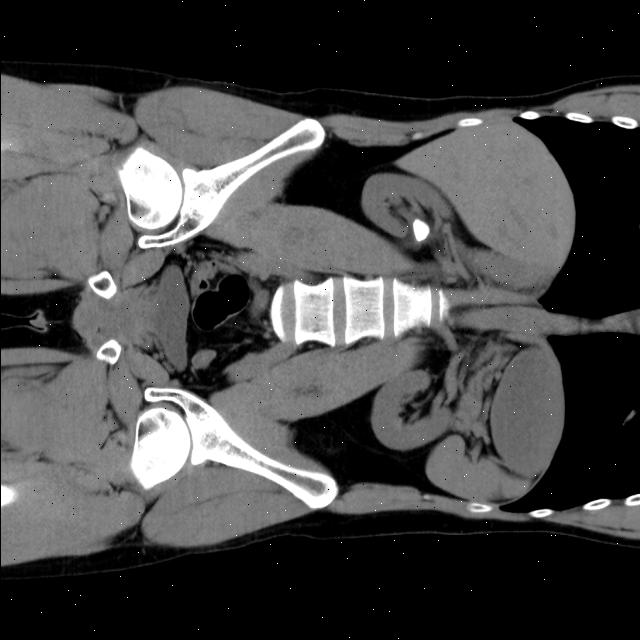kidneystone: (412, 219, 429, 242)
